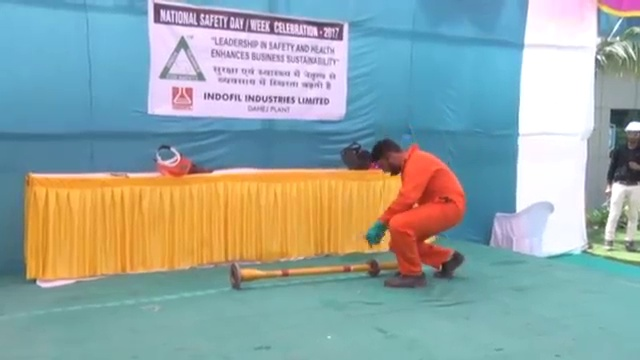helmet: (622, 119, 640, 133)
helmet_off: (370, 138, 407, 176)
helmet_on: (620, 118, 640, 147)
person: (360, 135, 463, 295), (602, 114, 640, 255)
